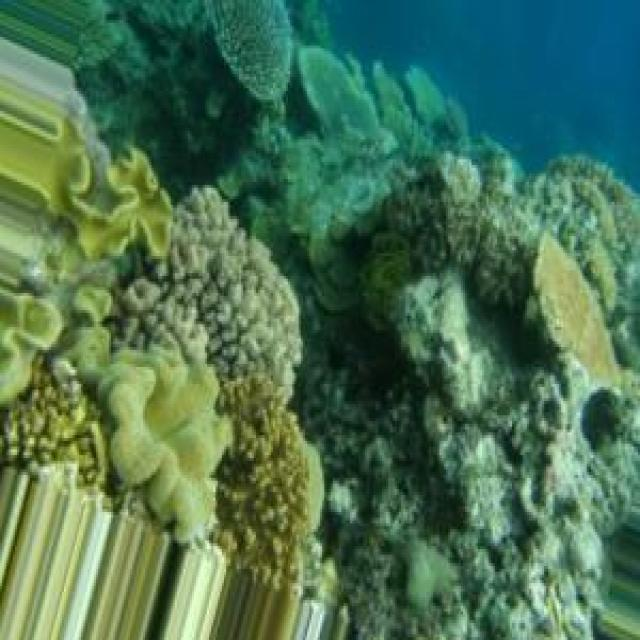bleached coral: (322, 316, 461, 529), (533, 373, 608, 640), (548, 162, 640, 367), (437, 324, 531, 481), (356, 540, 480, 640), (450, 202, 535, 338)
healthy coral: (166, 188, 316, 603), (282, 46, 461, 236), (81, 341, 230, 546), (119, 0, 265, 171), (0, 361, 107, 486), (367, 250, 439, 364)
